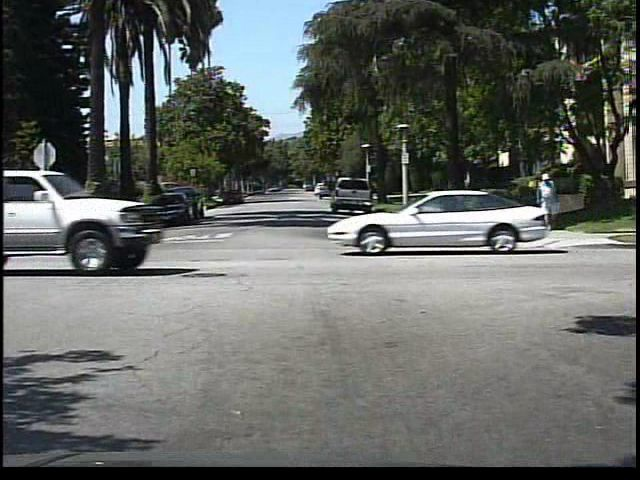person: (532, 171, 561, 233)
